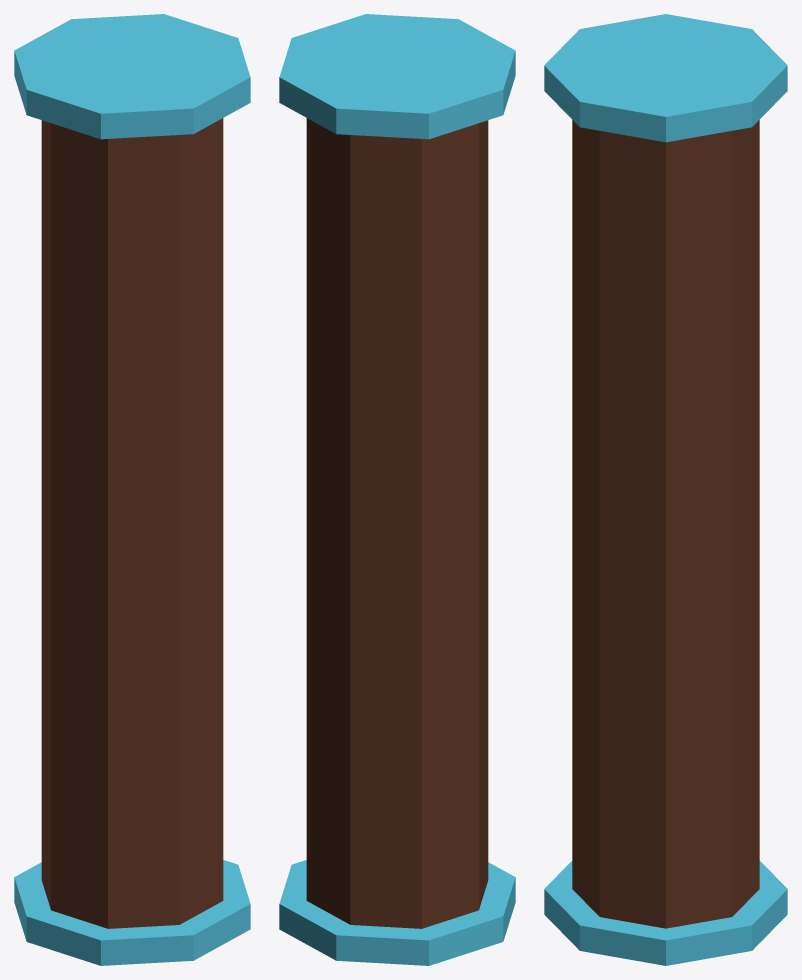
The model's file is PipeStraight.fbx.
3 renders of one model, left to right at view 1: azimuth 30°, elevation 25°; view 2: azimuth 150°, elevation 25°; view 3: azimuth 270°, elevation 25°, orthographic.
Parts seen in each view (by area): view 1: Pipe180; view 2: Pipe180; view 3: Pipe180.
Boxes of the visible parts, x1=… form: Pipe180: x1=14, y1=14, x2=250, y2=965; Pipe180: x1=279, y1=14, x2=515, y2=965; Pipe180: x1=544, y1=14, x2=787, y2=965.
Bounding box in the file's own units: 26 × 100 × 26.
